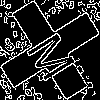M: (25, 25, 86, 84)
